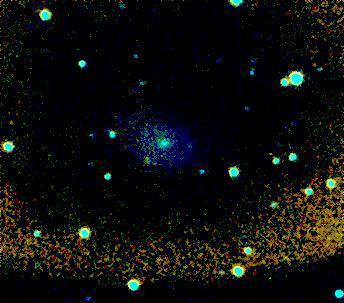star: (209, 51, 239, 81)
